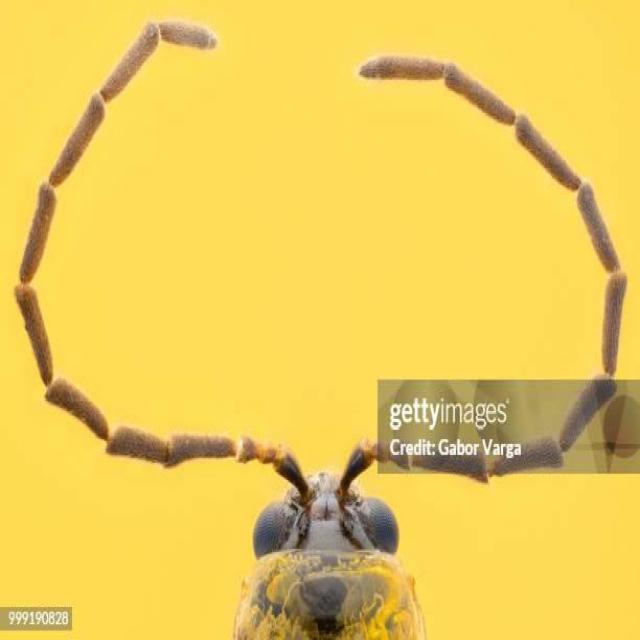trips: (18, 24, 627, 640)
